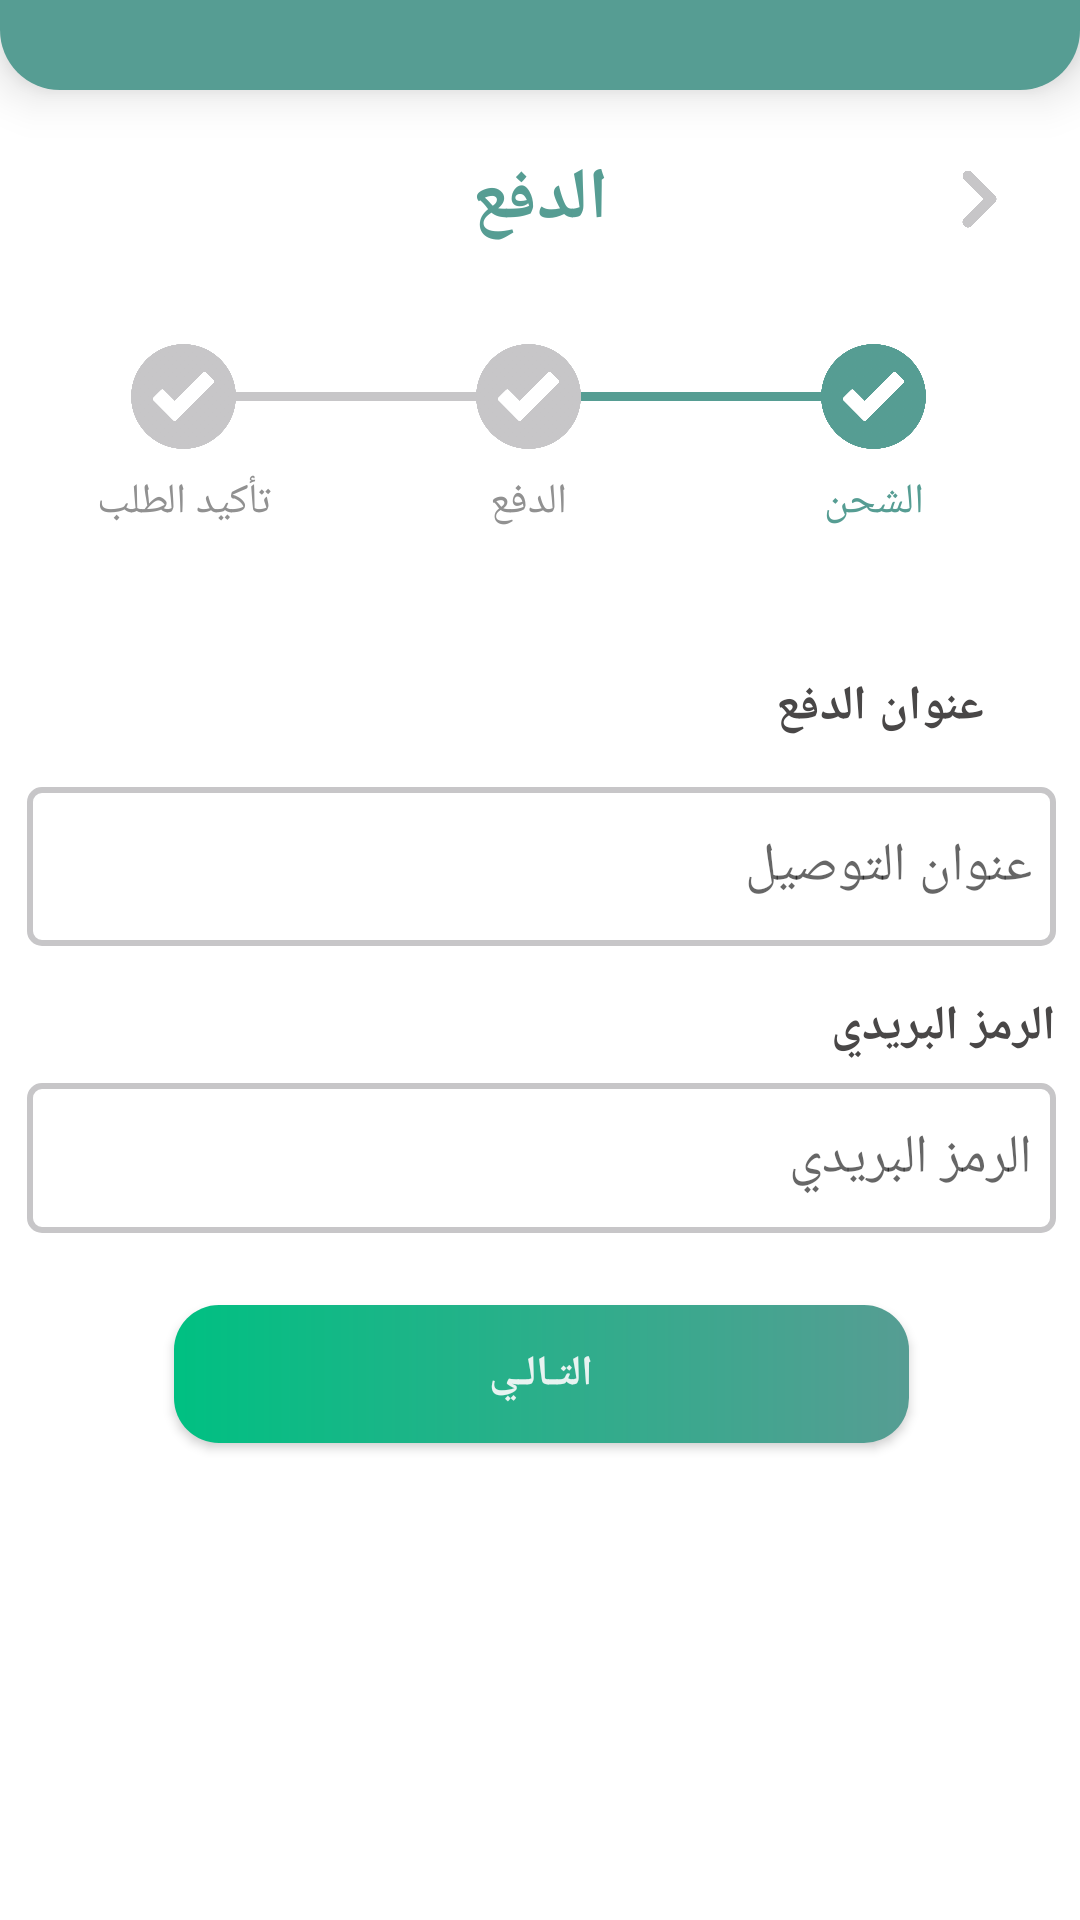

Locate icon controls on the screen. Image size 1080px x 1920px, boxes as (x1, y1, x2, y2).
accept: (131, 344, 236, 449), (476, 344, 581, 449), (821, 344, 926, 449)
back arrow: (962, 171, 997, 228)
